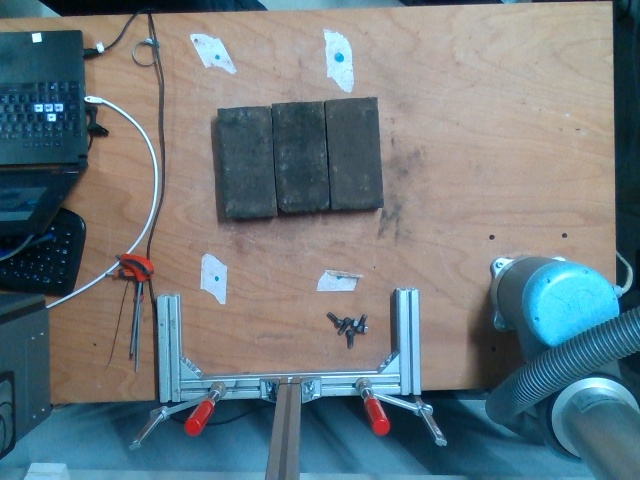brick: (216, 104, 276, 218), (270, 100, 330, 213), (325, 96, 383, 209)
